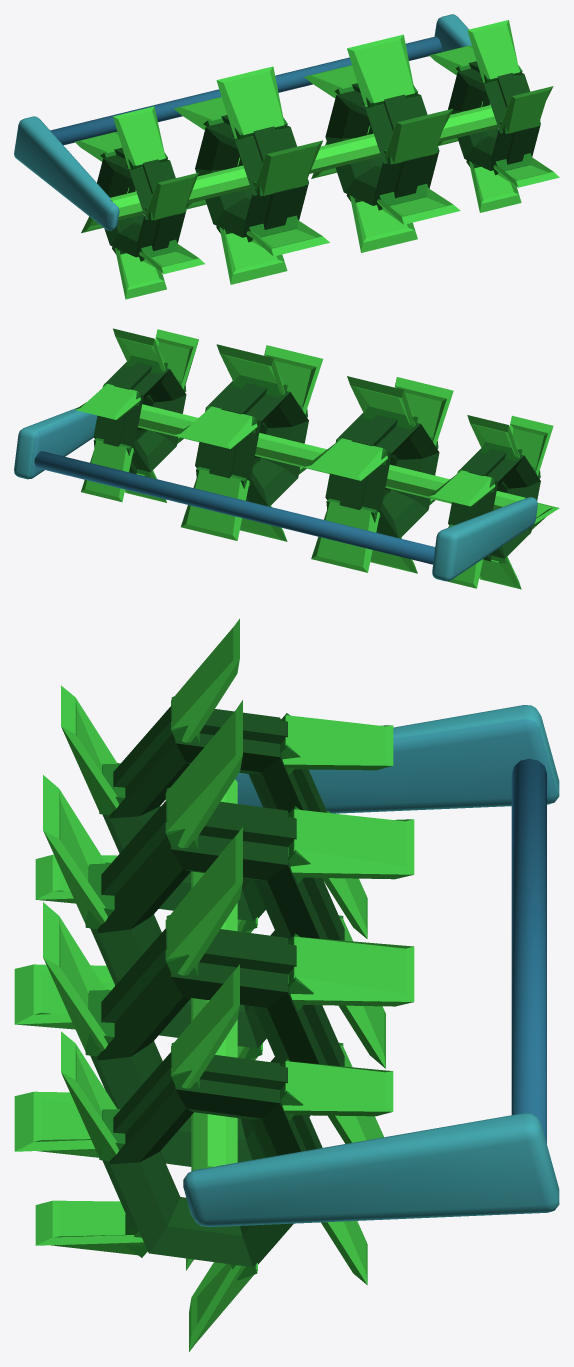
The model's file is 3_level_knife.fbx.
3 renders of one model, top to bottom at view 1: azimuth 30°, elevation 25°; view 2: azimuth 150°, elevation 25°; view 3: azimuth 270°, elevation 25°, orthographic. The views are drawn at different scales.
Visible parts, largest first — view 1: Cylinder3, Pim3; view 2: Cylinder3, Pim3; view 3: Cylinder3, Pim3.
Boxes of the visible parts, x1=… form: Cylinder3: x1=75, y1=20, x2=559, y2=299; Pim3: x1=14, y1=14, x2=471, y2=230; Cylinder3: x1=75, y1=328, x2=559, y2=589; Pim3: x1=14, y1=407, x2=537, y2=581; Cylinder3: x1=14, y1=618, x2=414, y2=1351; Pim3: x1=183, y1=705, x2=559, y2=1227.
Bounding box in the file's own units: 3.74 × 1.58 × 2.01.
